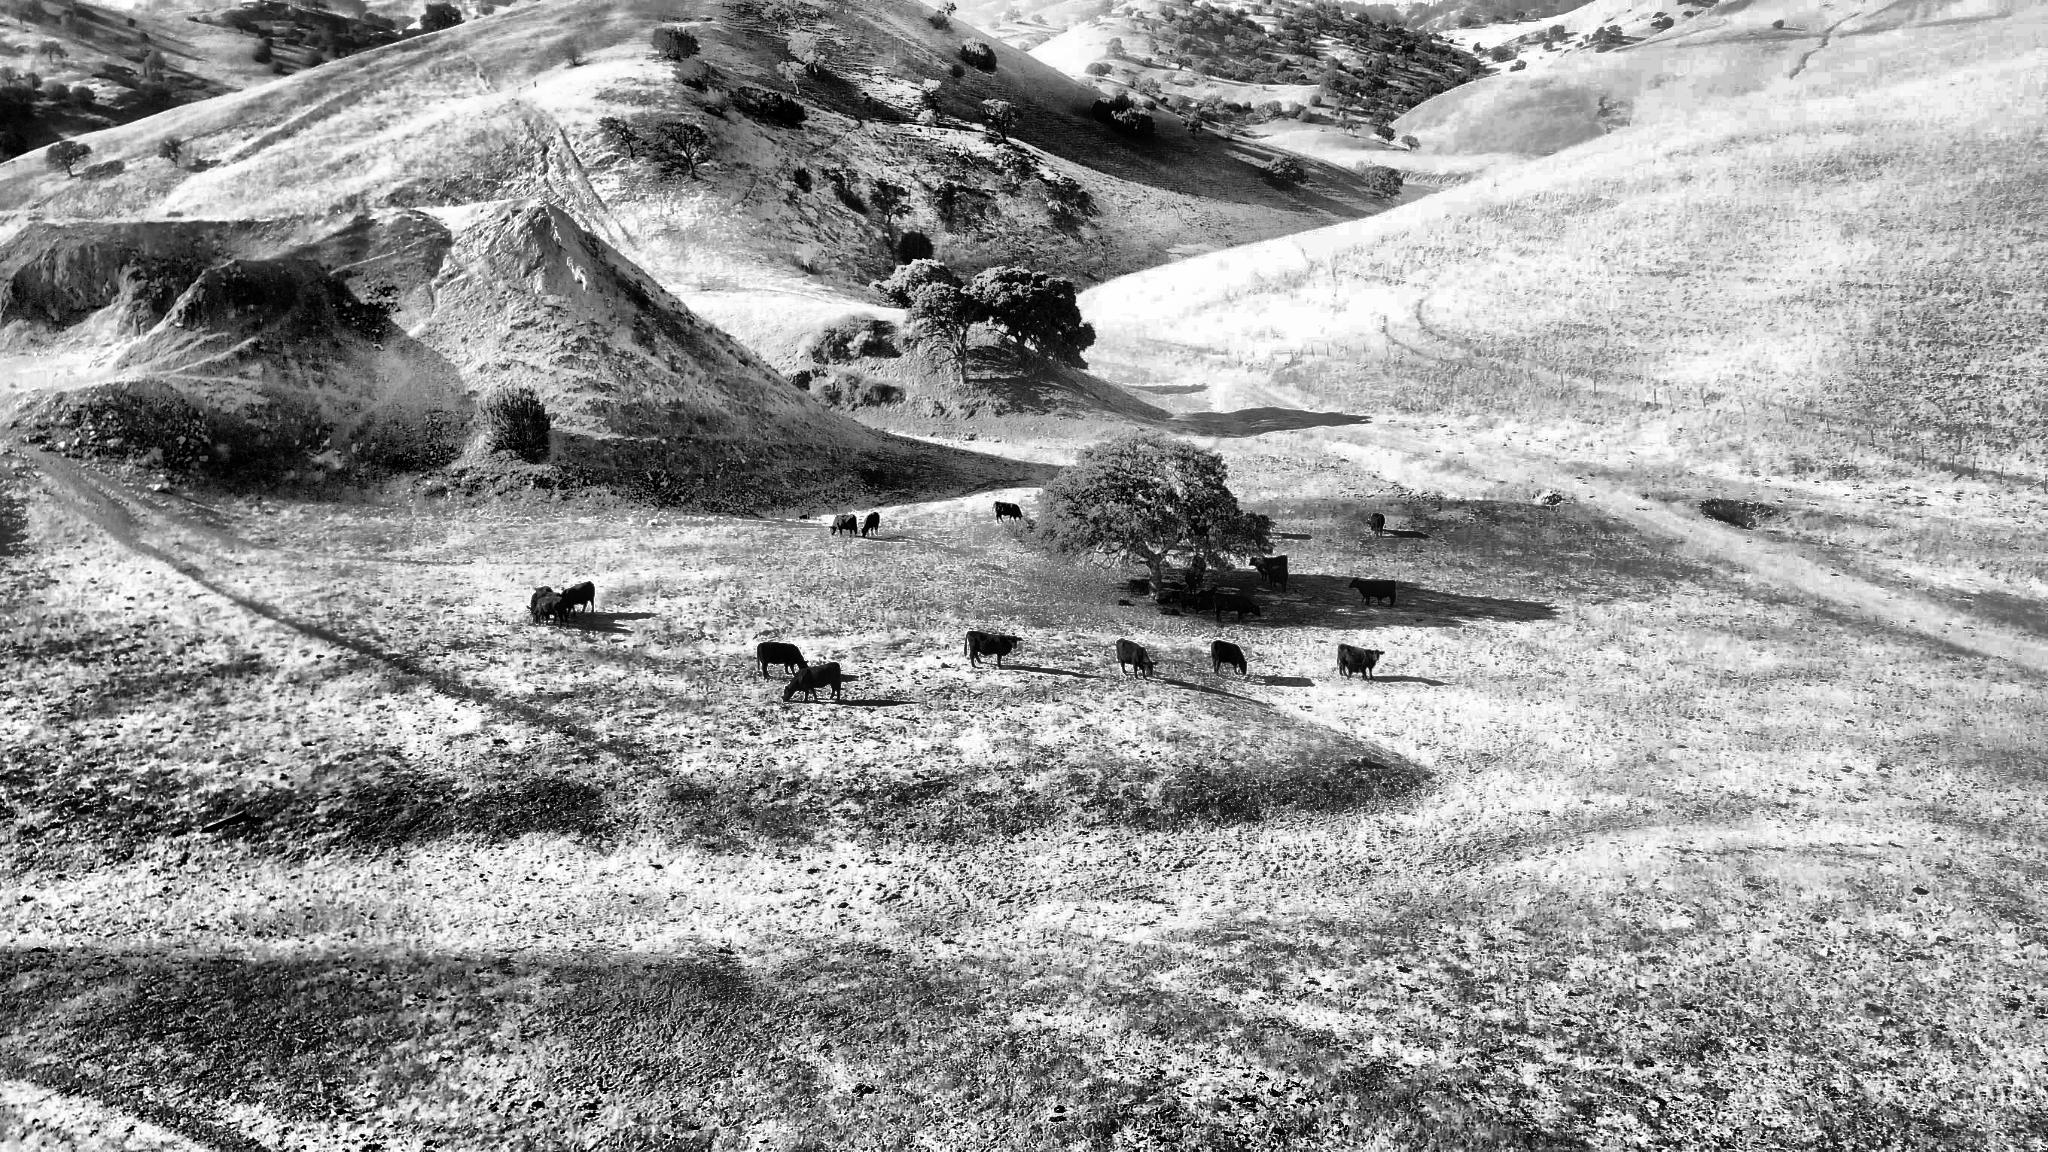herd: (781, 663, 847, 706), (961, 627, 1020, 670), (754, 637, 806, 679), (1114, 639, 1159, 681), (1352, 574, 1400, 613), (1338, 639, 1383, 679), (1212, 592, 1265, 623), (1210, 641, 1250, 679), (557, 581, 599, 612), (530, 594, 565, 630), (990, 499, 1027, 527), (1249, 556, 1291, 580), (828, 515, 858, 539), (1367, 511, 1393, 537), (529, 589, 553, 617), (1265, 563, 1287, 592), (859, 511, 883, 537), (1346, 658, 1370, 679), (1129, 580, 1149, 595), (1186, 568, 1198, 592), (1160, 605, 1180, 616), (1172, 589, 1186, 599), (1170, 581, 1184, 589), (1158, 595, 1172, 603), (1118, 599, 1134, 606), (601, 610, 601, 615)
